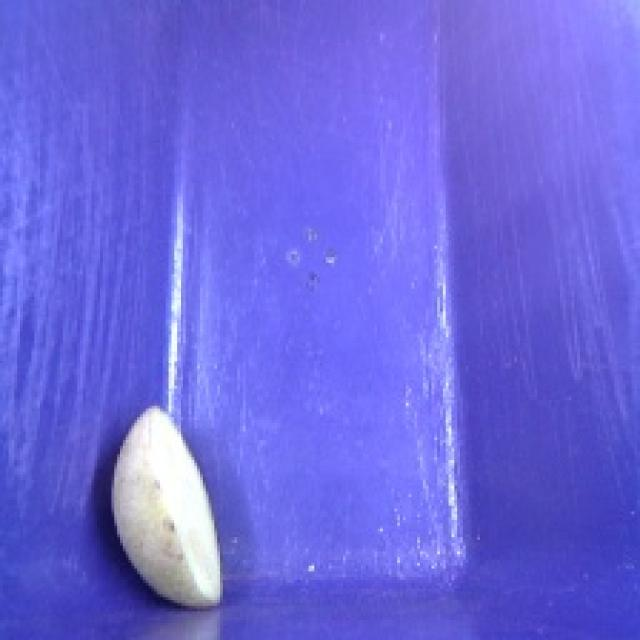potato: (90, 396, 242, 625)
